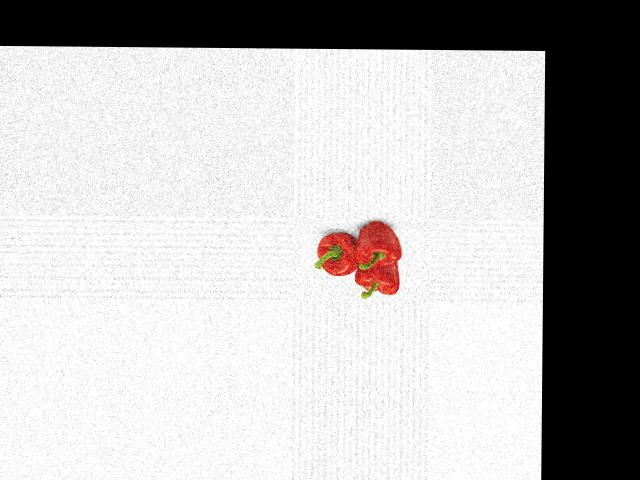bell_pepper: (311, 228, 363, 281)
